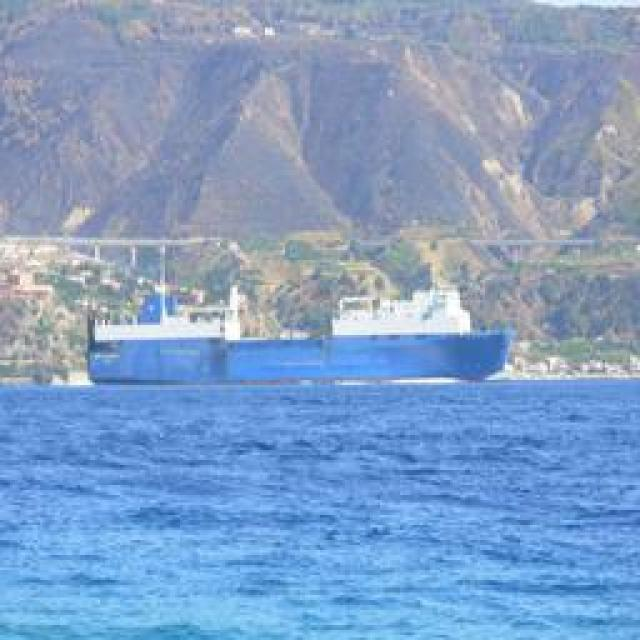CIV_Ship: (90, 294, 502, 386)
